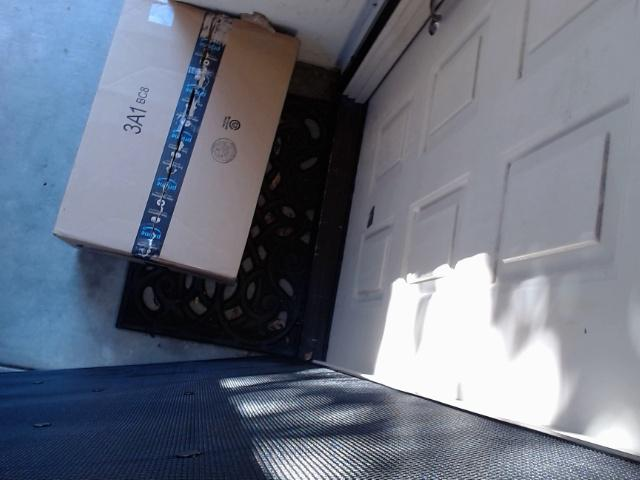box: (54, 12, 296, 273)
